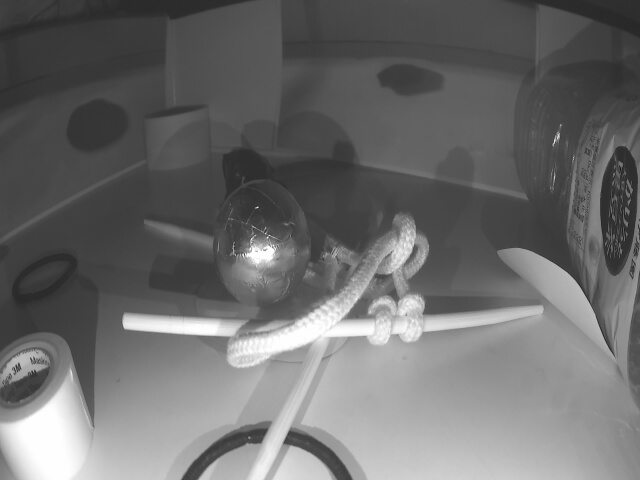Live: (210, 184, 309, 308)
